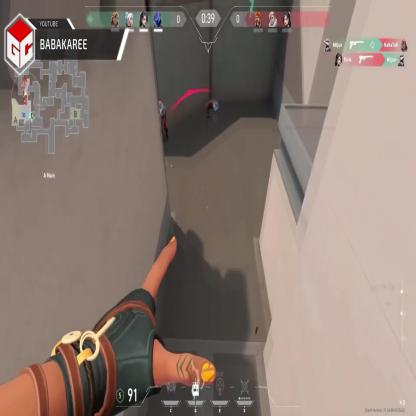enemy: (156, 99, 168, 142)
enemy_head: (158, 100, 162, 108)
